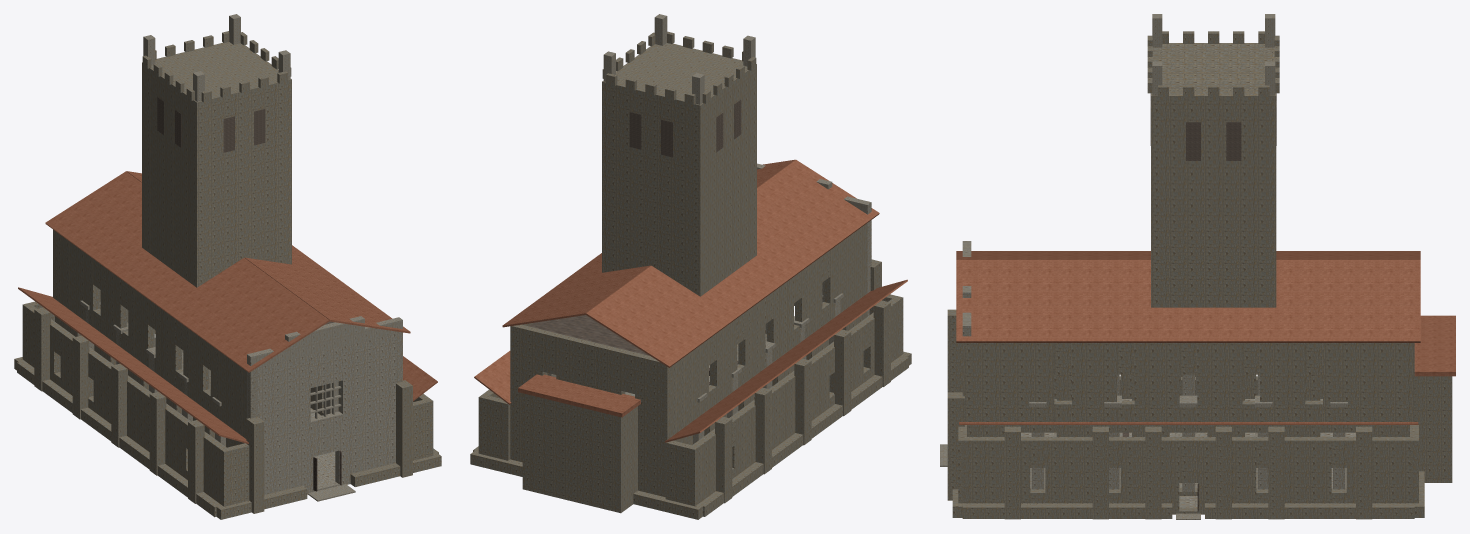
File: prop_hk_cathedral.glb
The picture shows the model from 3 angles, left to right: view 1: azimuth 30°, elevation 25°; view 2: azimuth 150°, elevation 25°; view 3: azimuth 270°, elevation 25°; orthographic projection. The views are drawn at different scales.
Parts seen in each view (by area): view 1: building_hk_cathedral; view 2: building_hk_cathedral; view 3: building_hk_cathedral.
Part boxes in pixels (<box>): building_hk_cathedral: <box>14,14,441,519</box>; building_hk_cathedral: <box>470,14,911,519</box>; building_hk_cathedral: <box>940,14,1455,519</box>.
Size of the model in its own units: 23.9 by 36.6 by 41.1.
6 materials, 6 textured.
